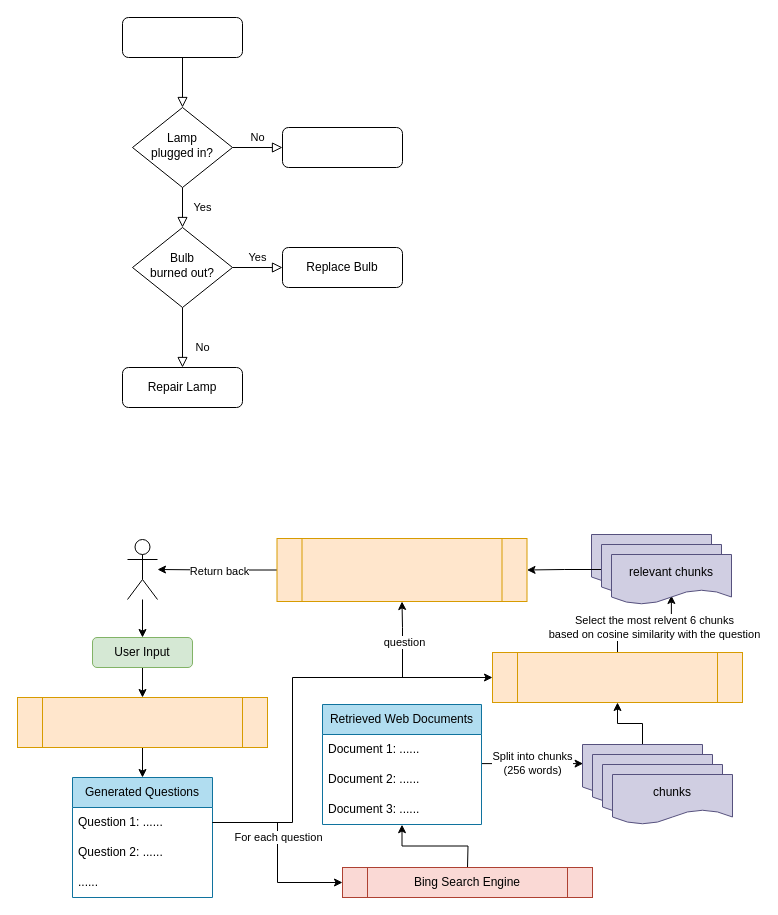
The diagram is 778 pixels wide and 915 high, and some of its shapes have lost their labels. Here are the shapes that lost their labels. From the top down, the centre of each, then its label:
(x=182, y=37): Lamp doesn't work
(x=342, y=147): Plug in lamp
(x=401, y=570): ChatGPT (prompted to answer questions by summarizing chunks)
(x=617, y=677): OpenAI Text Embedding (text-embedding-ada-002)
(x=142, y=722): ChatGPT (prompted to generate questions)
